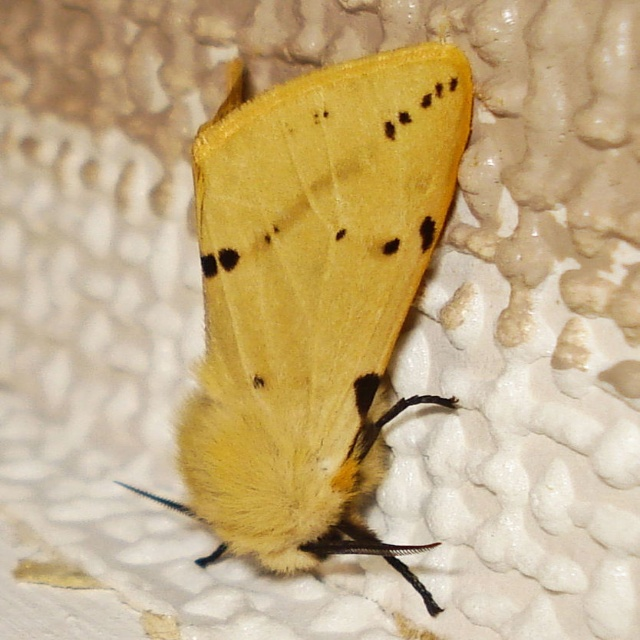Butterfly: (139, 2, 507, 605)
